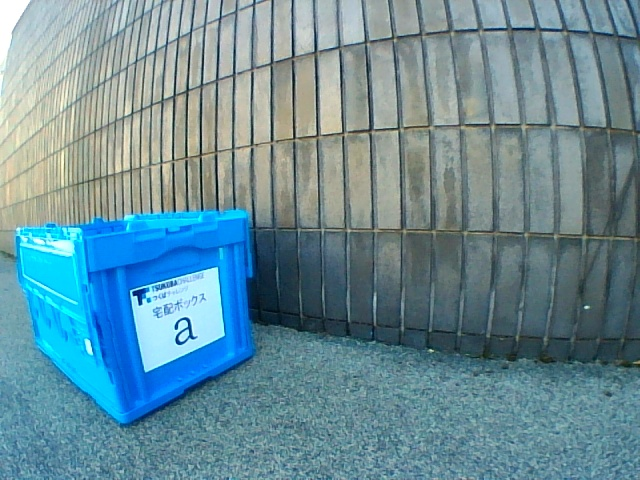blue_box: (17, 210, 252, 424)
tag_a: (159, 294, 202, 345)
